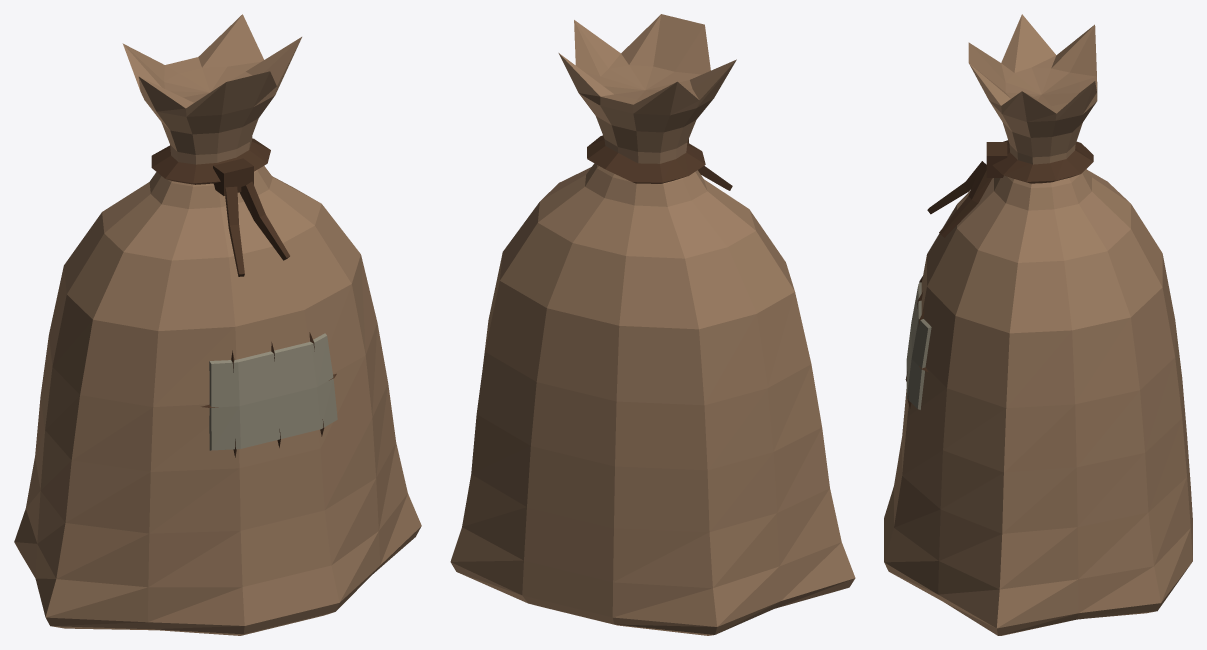
The model's file is feed-sack-c84641.glb.
3 views of the same model, side by side, from view 1: azimuth 30°, elevation 25°; view 2: azimuth 150°, elevation 25°; view 3: azimuth 270°, elevation 25° (orthographic). The views are drawn at different scales.
Parts seen in each view (by area): view 1: sack; view 2: sack; view 3: sack.
Boxes of the visible parts, bbox=[...] form: sack: bbox=[14, 14, 421, 635]; sack: bbox=[450, 14, 855, 635]; sack: bbox=[884, 14, 1192, 635].
Size of the model in its own units: 0.5233 by 0.6968 by 0.3858.
